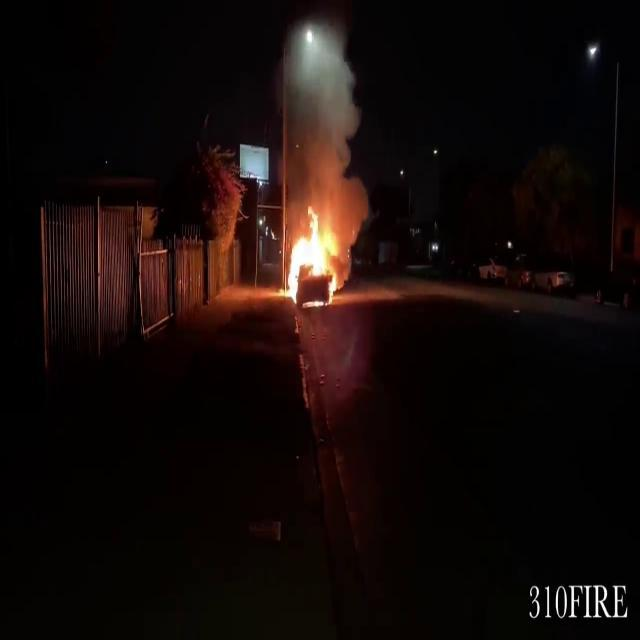Fire: (282, 204, 344, 306)
Smoke: (286, 41, 369, 219)
